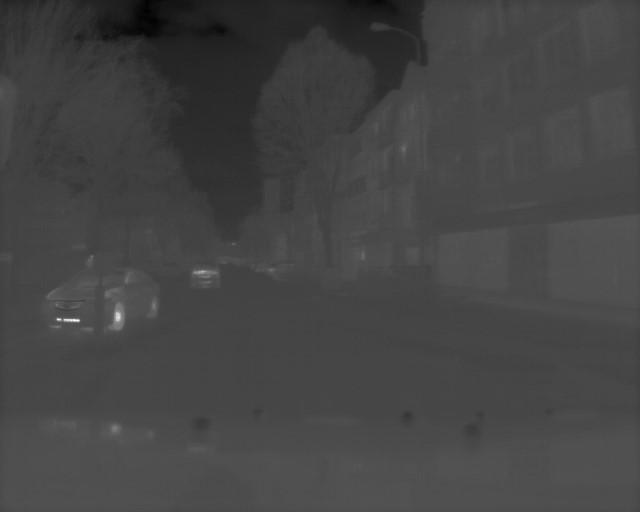car: (44, 267, 166, 332), (187, 261, 224, 291)
